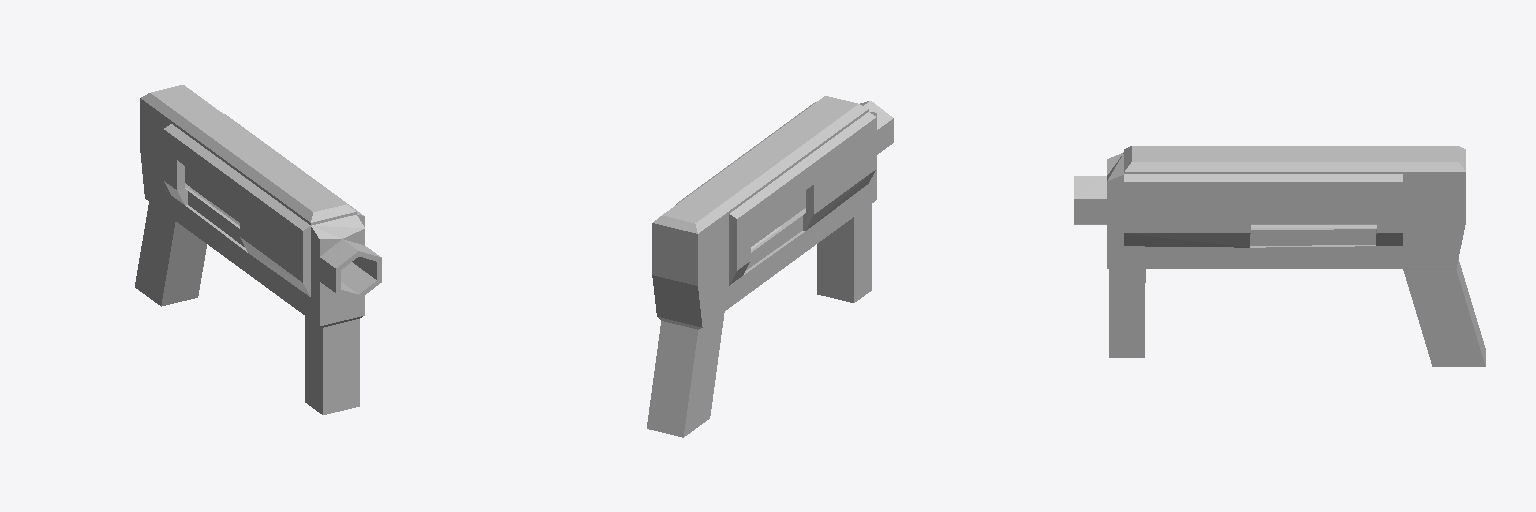
File: Launcher.obj
3 renders of one model, left to right at view 1: azimuth 30°, elevation 25°; view 2: azimuth 150°, elevation 25°; view 3: azimuth 270°, elevation 25°, orthographic.
Parts seen in each view (by area): view 1: Cube; view 2: Cube; view 3: Cube.
Boxes of the visible parts, x1,y1,x2,y2 form: Cube: [135, 85, 381, 414]; Cube: [647, 96, 893, 437]; Cube: [1074, 146, 1485, 366].
Bounding box in the file's own units: 0.2648 × 0.8388 × 1.53.